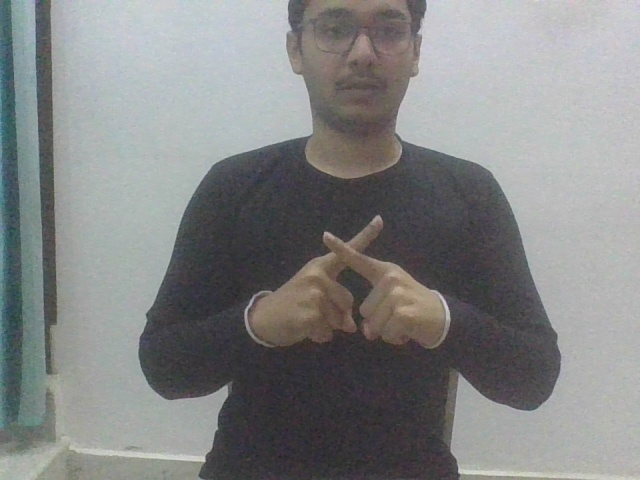X: (273, 211, 426, 352)
